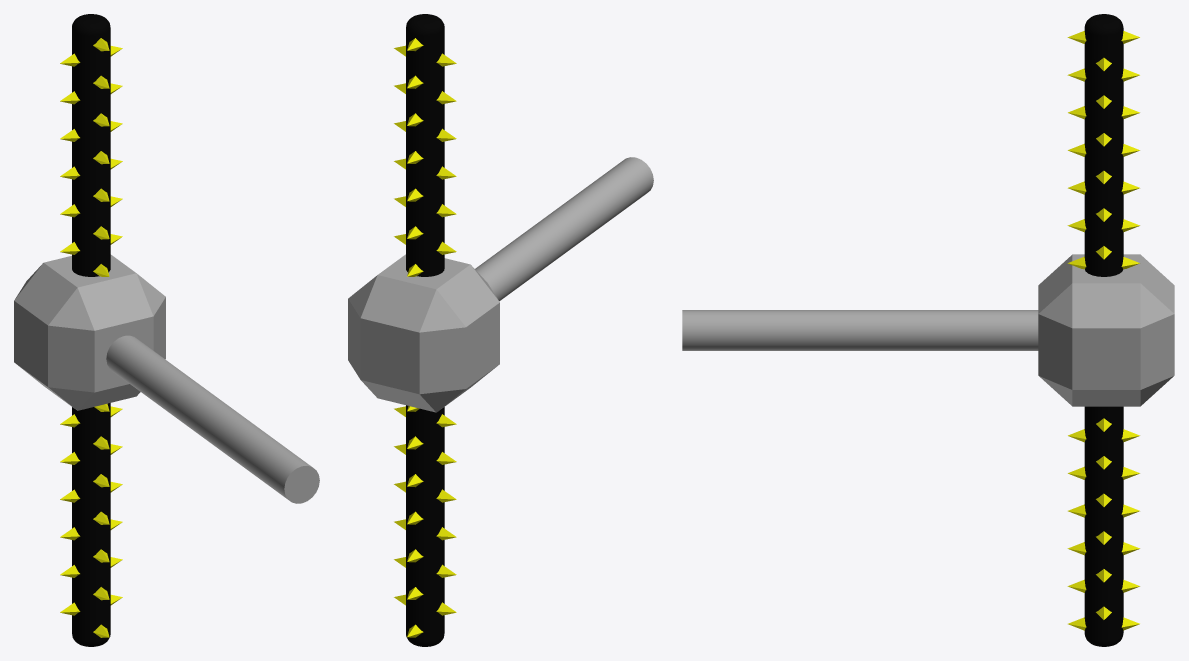
The model's file is Level8.1.fbx.
The picture shows the model from 3 angles, left to right: view 1: azimuth 30°, elevation 25°; view 2: azimuth 150°, elevation 25°; view 3: azimuth 270°, elevation 25°; orthographic projection.
Visible parts, largest first — view 1: pCube5, pCylinder13; view 2: pCube5, pCylinder13; view 3: pCube5, pCylinder13.
Boxes of the visible parts, bbox=[...] form: pCube5: bbox=[14, 14, 165, 646]; pCylinder13: bbox=[106, 335, 319, 503]; pCube5: bbox=[348, 14, 499, 646]; pCylinder13: bbox=[475, 157, 653, 301]; pCube5: bbox=[1038, 14, 1174, 646]; pCylinder13: bbox=[682, 310, 1038, 350].
Size of the model in its own units: 4.11 by 20.78 by 14.87.
